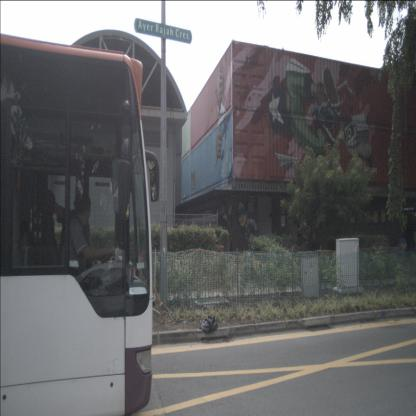vehicle-bus-rigid: (0, 30, 154, 416)
